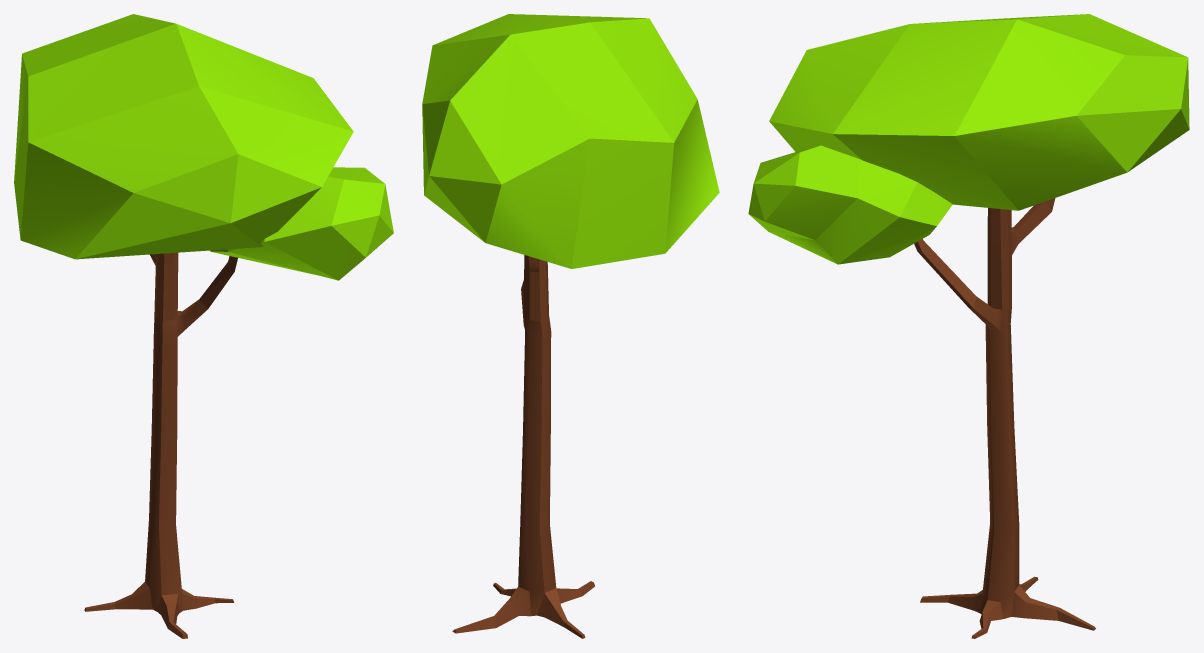
The model's file is Tree 5.fbx.
3 views of the same model, side by side, from view 1: azimuth 30°, elevation 25°; view 2: azimuth 150°, elevation 25°; view 3: azimuth 270°, elevation 25° (orthographic). The views are drawn at different scales.
Parts seen in each view (by area): view 1: pasted__polySurface3, pasted__pCube1, pasted__polySurface4; view 2: pasted__polySurface3, pasted__pCube1; view 3: pasted__polySurface3, pasted__polySurface4, pasted__pCube1.
Part boxes in pixels (<box>): pasted__polySurface3: <box>14,14,353,259</box>; pasted__pCube1: <box>84,252,237,638</box>; pasted__polySurface4: <box>210,167,393,280</box>; pasted__polySurface3: <box>422,14,719,268</box>; pasted__pCube1: <box>452,255,594,638</box>; pasted__polySurface3: <box>769,14,1189,210</box>; pasted__polySurface4: <box>748,145,952,264</box>; pasted__pCube1: <box>914,198,1095,638</box>.
Bounding box in the file's own units: 10.04 × 20.57 × 13.65.
